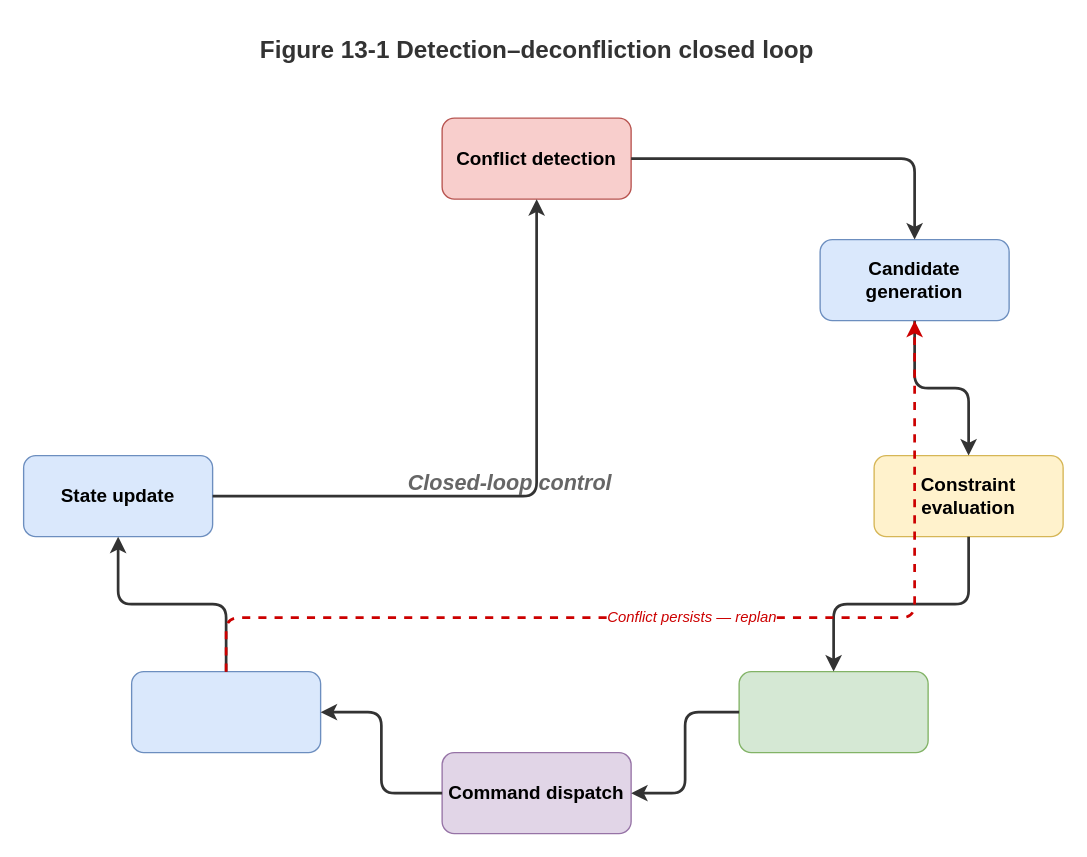
The diagram is 1087 pixels wide and 857 high, and some of its shapes have lost their labels. The shapes that lost their labels are listed below. From the top down, each one's centre as x and y in pixels, then its label:
pixel 225 711: Execution monitoring
pixel 833 711: Plan selection
